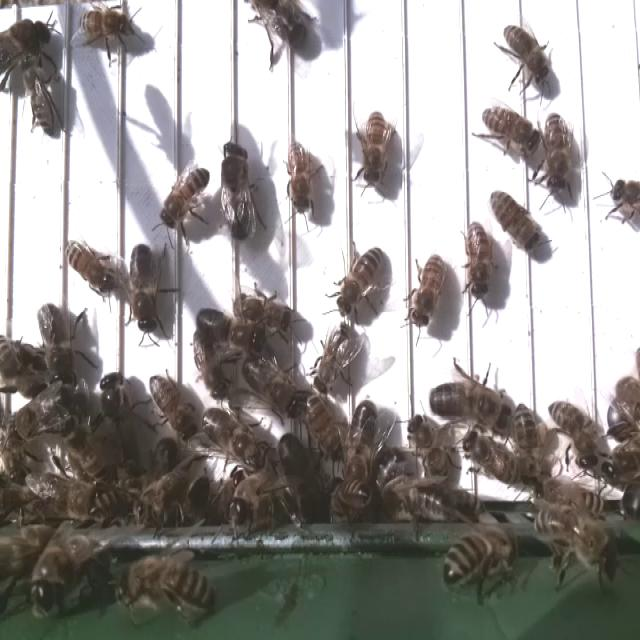Drone: (428, 374, 515, 431), (238, 350, 306, 422), (193, 300, 267, 360), (34, 296, 76, 394), (219, 136, 255, 246), (128, 238, 162, 336)
Worker: (546, 395, 600, 472), (155, 165, 214, 235), (333, 244, 389, 316), (146, 368, 198, 444), (478, 100, 541, 162), (461, 430, 524, 491), (490, 186, 543, 257), (20, 55, 60, 143), (501, 20, 553, 86), (62, 235, 118, 296), (404, 252, 447, 330), (310, 322, 354, 397), (230, 285, 300, 332), (282, 134, 316, 224), (76, 5, 140, 52), (542, 107, 573, 198), (463, 218, 495, 305), (359, 104, 390, 192)
